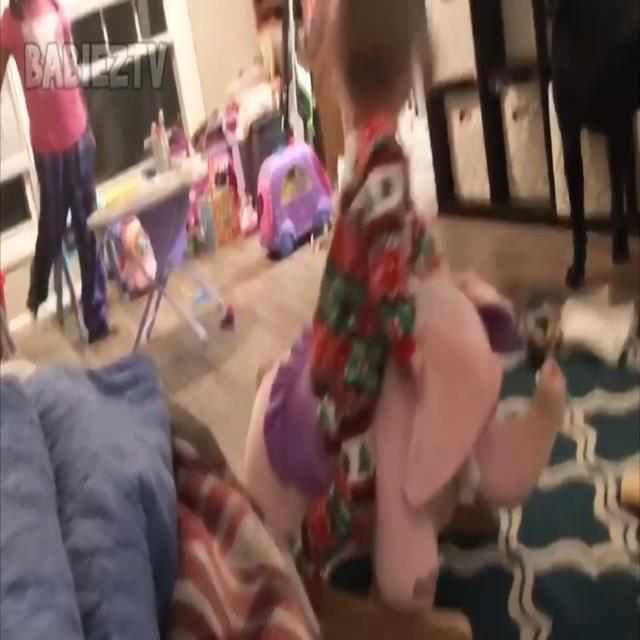child: (309, 0, 565, 539)
